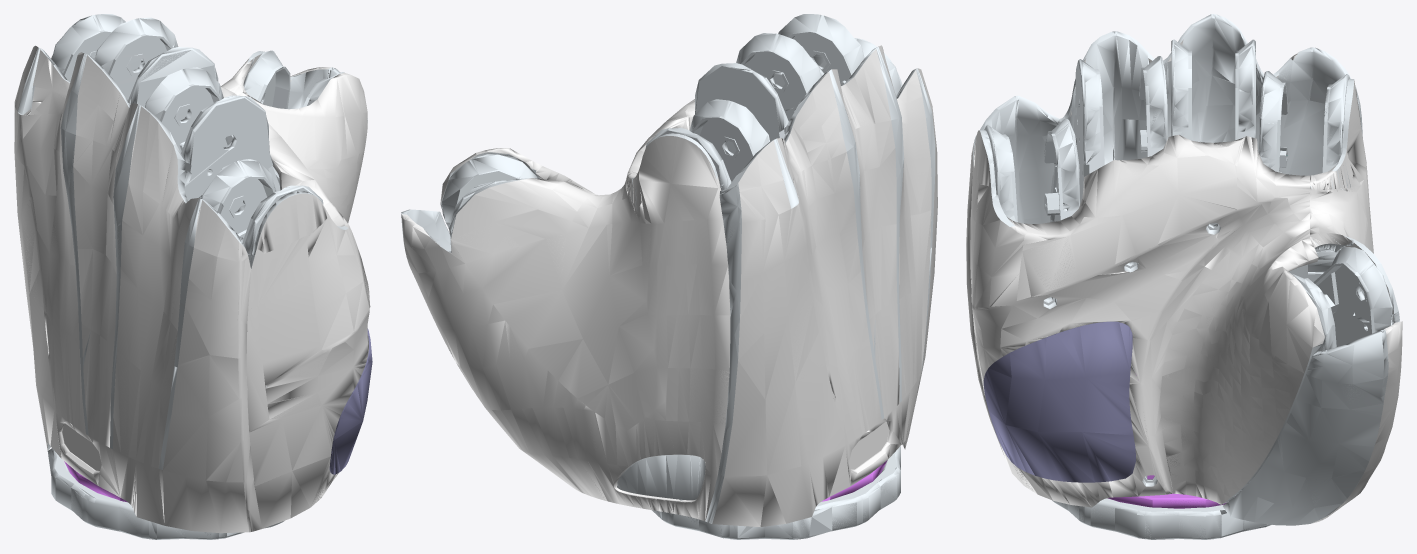
Rendered from hit-hand-2-palm-right.dae.
The picture shows the model from 3 angles, left to right: view 1: azimuth 30°, elevation 25°; view 2: azimuth 150°, elevation 25°; view 3: azimuth 270°, elevation 25°; orthographic projection. The views are drawn at different scales.
Parts seen in each view (by area): view 1: IndexedTriangleStripSet_8, IndexedTriangleStripSet_18, IndexedTriangleStripSet_6, IndexedTriangleStripSet_28, IndexedTriangleStripSet_16, IndexedTriangleStripSet_38, IndexedTriangleStripSet_26, IndexedTriangleStripSet_36, IndexedTriangleStripSet_2, IndexedTriangleStripSet_12; view 2: IndexedTriangleStripSet_8, IndexedTriangleStripSet_18, IndexedTriangleStripSet_6, IndexedTriangleStripSet_28, IndexedTriangleStripSet_16, IndexedTriangleStripSet_38, IndexedTriangleStripSet_26, IndexedTriangleStripSet_36; view 3: IndexedTriangleStripSet_8, IndexedTriangleStripSet_6, IndexedTriangleStripSet_18, IndexedTriangleStripSet_16, IndexedTriangleStripSet_2, IndexedTriangleStripSet_26, IndexedTriangleStripSet_28, IndexedTriangleStripSet_12, IndexedTriangleStripSet_36, IndexedTriangleStripSet_38, IndexedTriangleStripSet_22, IndexedTriangleStripSet_4.
Boxes of the visible parts, x1,y1,x2,y2 form: IndexedTriangleStripSet_8: (14, 45, 370, 533); IndexedTriangleStripSet_18: (14, 49, 369, 532); IndexedTriangleStripSet_6: (18, 14, 367, 539); IndexedTriangleStripSet_28: (15, 53, 369, 519); IndexedTriangleStripSet_16: (17, 15, 367, 539); IndexedTriangleStripSet_38: (16, 48, 370, 528); IndexedTriangleStripSet_26: (41, 21, 330, 539); IndexedTriangleStripSet_36: (18, 16, 335, 539); IndexedTriangleStripSet_2: (329, 328, 372, 474); IndexedTriangleStripSet_12: (330, 334, 372, 474); IndexedTriangleStripSet_8: (401, 45, 937, 527); IndexedTriangleStripSet_18: (402, 46, 936, 526); IndexedTriangleStripSet_6: (401, 14, 935, 539); IndexedTriangleStripSet_28: (416, 65, 937, 526); IndexedTriangleStripSet_16: (401, 15, 935, 539); IndexedTriangleStripSet_38: (414, 112, 937, 516); IndexedTriangleStripSet_26: (402, 31, 931, 538); IndexedTriangleStripSet_36: (430, 33, 931, 538); IndexedTriangleStripSet_8: (966, 39, 1402, 523); IndexedTriangleStripSet_6: (973, 14, 1399, 539); IndexedTriangleStripSet_18: (966, 58, 1402, 507); IndexedTriangleStripSet_16: (973, 14, 1399, 539); IndexedTriangleStripSet_2: (984, 321, 1135, 482); IndexedTriangleStripSet_26: (974, 14, 1398, 539); IndexedTriangleStripSet_28: (967, 111, 1394, 505); IndexedTriangleStripSet_12: (983, 322, 1135, 482); IndexedTriangleStripSet_36: (983, 15, 1394, 538); IndexedTriangleStripSet_38: (967, 91, 1399, 519); IndexedTriangleStripSet_22: (988, 322, 1132, 424); IndexedTriangleStripSet_4: (1136, 375, 1207, 508).
Size of the model in its own units: 0.1249 by 0.1272 by 0.1442.
